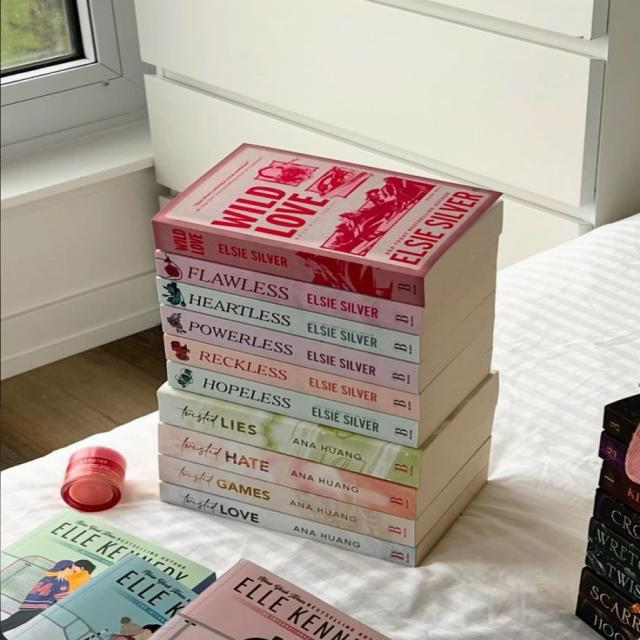book: (159, 390, 424, 489), (154, 221, 428, 310), (160, 426, 419, 520), (159, 455, 414, 547), (160, 305, 421, 394), (156, 250, 422, 337), (164, 334, 419, 421), (156, 279, 420, 363), (167, 362, 417, 448), (160, 483, 415, 567)
